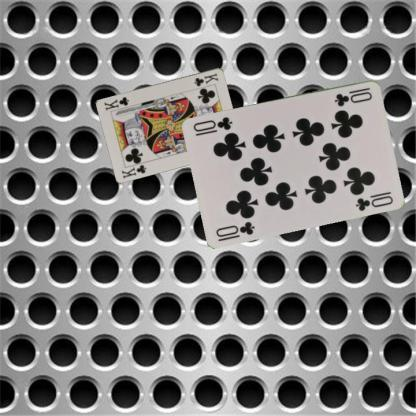10c: (332, 84, 374, 108), (214, 218, 256, 238)
Kc: (118, 162, 147, 180), (192, 70, 220, 88)
